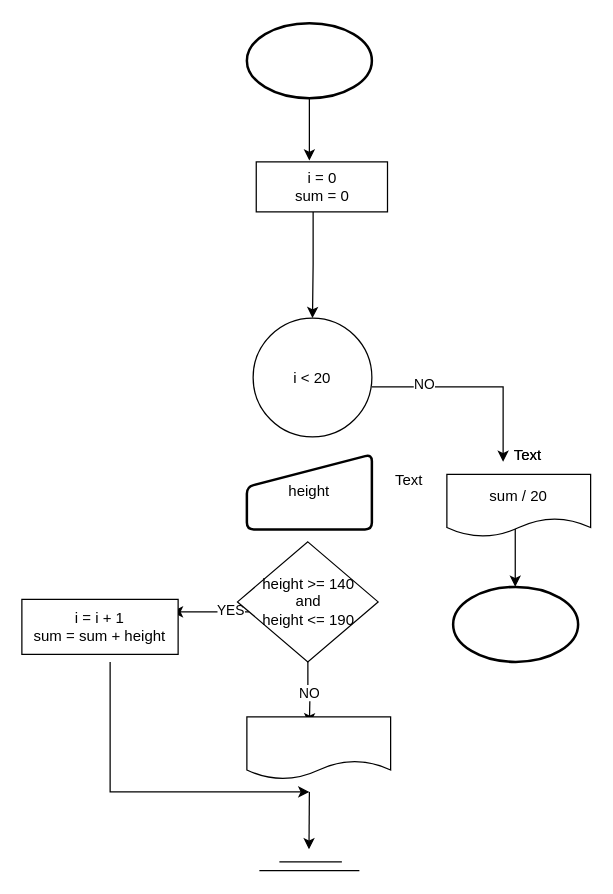
Some shapes in this 613 by 894 pixel diagram are drawn without their labels. Each missing label, with the centre of its shape:
"illegal height": point 318,747
START: point 308,60
STOP: point 515,623
